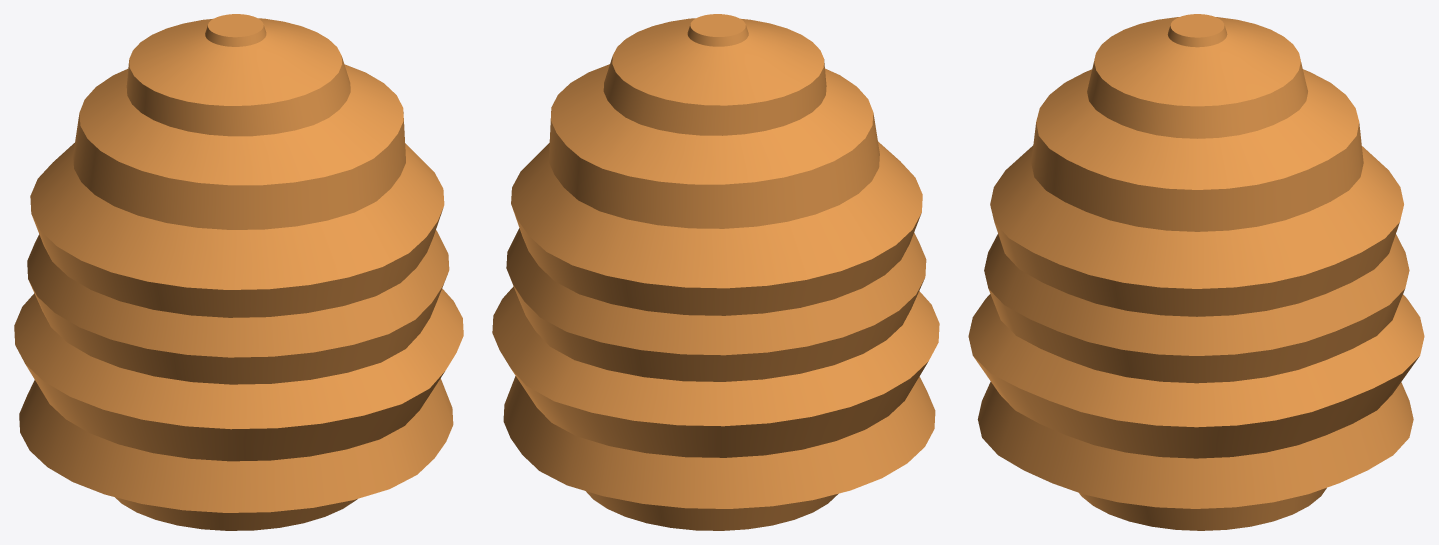
The model's file is hive.fbx.
The picture shows the model from 3 angles, left to right: view 1: azimuth 30°, elevation 25°; view 2: azimuth 150°, elevation 25°; view 3: azimuth 270°, elevation 25°; orthographic projection.
Parts seen in each view (by area): view 1: Cylinder; view 2: Cylinder; view 3: Cylinder.
Part boxes in pixels (x1,y1,x2,y2): Cylinder: (14,14,463,530); Cylinder: (492,14,939,530); Cylinder: (968,14,1424,530).
Size of the model in its own units: 195 by 230 by 198.
